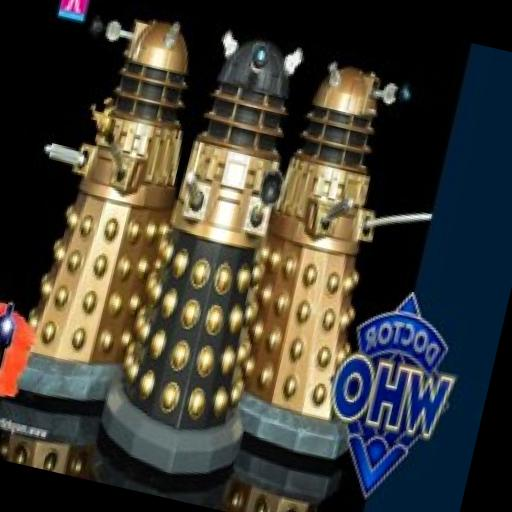dalek: (87, 21, 332, 492), (220, 50, 458, 471), (0, 0, 207, 422)
